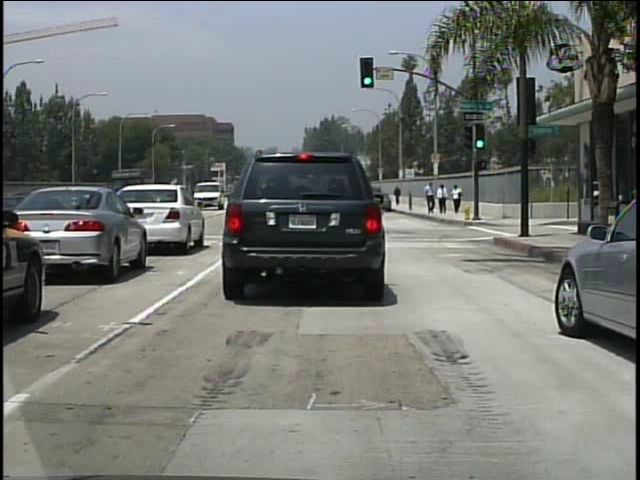person: (425, 180, 438, 217), (451, 183, 464, 215), (438, 183, 451, 215), (393, 185, 402, 207)
